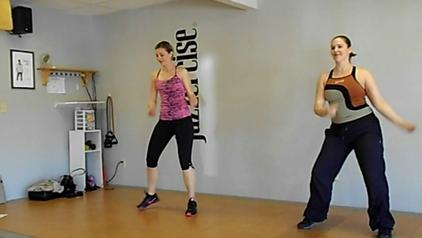stay: (140, 43, 199, 188)
